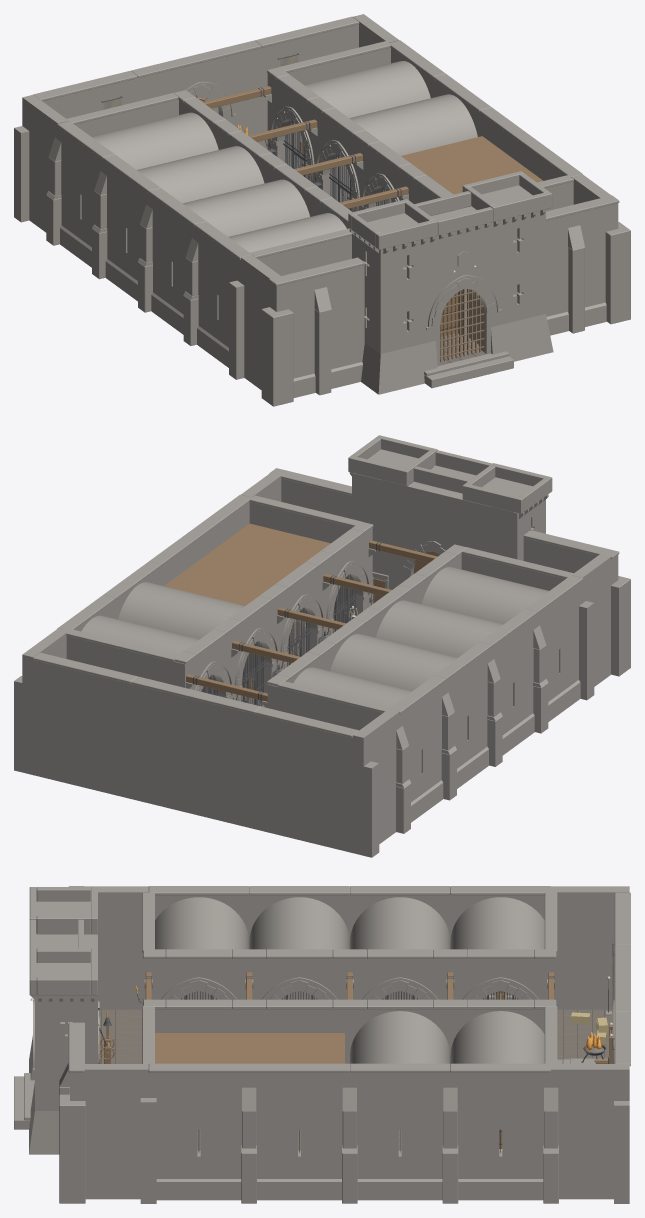
Rendered from ThePit_HIGH.dae.
3 renders of one model, top to bottom at view 1: azimuth 30°, elevation 25°; view 2: azimuth 150°, elevation 25°; view 3: azimuth 270°, elevation 25°, orthographic. The views are drawn at different scales.
Parts seen in each view (by area): view 1: G_Tower_W, G_Wall_W, G_Tower_E, G_Wall_E, N_Back_C, G_Arch, C04_Wall, C03_Wall, C02_Wall, C01_Wall, C07_Vault, N_Wall_W (+35 smaller); view 2: N_Back_C, N_Back_E, N_Back_W, G_Tower_E, C05_Roof, G_Tower_W, C02_Wall, C01_Wall, C04_Wall, C03_Wall, N_Wall_W, G_Arch (+36 smaller); view 3: C05_Wall, C08_Wall, C07_Wall, N_Wall_E, V_Wall_E, G_Tower_E, N_Wall_W, C05_Roof, V_Wall_W, C07_Vault, C03_Vault, C02_Vault (+38 smaller).
Boxes of the visible parts, x1,y1,x2,y2 form: G_Tower_W: (348,199,439,394); G_Wall_W: (261,257,364,406); G_Tower_E: (458,171,553,361); G_Wall_E: (546,195,630,335); N_Back_C: (131,40,261,135); G_Arch: (414,191,501,329); C04_Wall: (46,121,114,267); C03_Wall: (92,154,160,301); C02_Wall: (138,188,206,334); C01_Wall: (183,221,251,367); C07_Vault: (349,94,477,155); N_Wall_W: (14,95,68,232); N_Back_C: (130,676,261,829); N_Back_E: (33,652,137,798); N_Back_W: (254,706,358,852); G_Tower_E: (348,435,437,603); C05_Roof: (164,523,330,605); G_Tower_W: (462,463,552,560); C02_Wall: (480,609,537,766); C01_Wall: (525,575,582,733); C04_Wall: (389,676,445,833); C03_Wall: (434,642,491,800); N_Wall_W: (352,709,399,857); G_Arch: (402,450,492,576); C05_Wall: (148,1063,357,1203); C08_Wall: (450,1063,558,1203); C07_Wall: (350,1063,458,1203); N_Wall_E: (551,1064,629,1203); V_Wall_E: (84,1064,156,1203); G_Tower_E: (29,948,97,1154); N_Wall_W: (551,886,629,1009); C05_Roof: (155,1033,344,1063); V_Wall_W: (84,886,148,1009); C07_Vault: (350,1011,450,1063); C03_Vault: (350,897,450,949); C02_Vault: (249,897,349,949).
Size of the model in its own units: 26 by 35.27 by 11.
